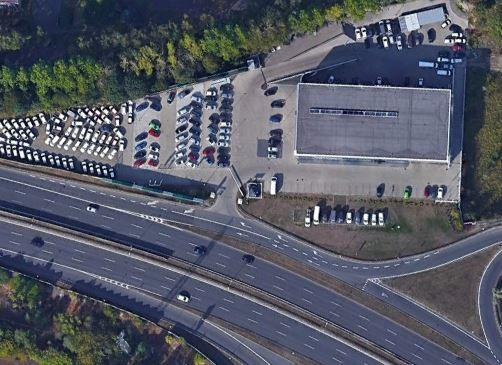shopping_center: (290, 75, 458, 174)
